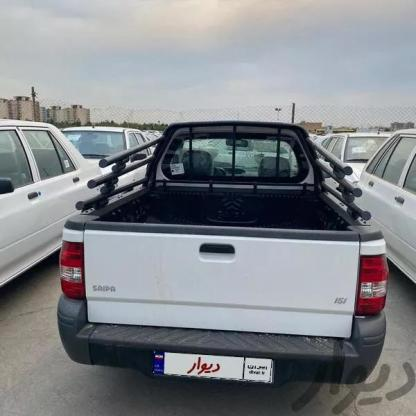Car: (69, 106, 393, 409), (0, 111, 124, 272), (344, 117, 416, 296), (63, 108, 185, 196), (298, 104, 384, 213)
